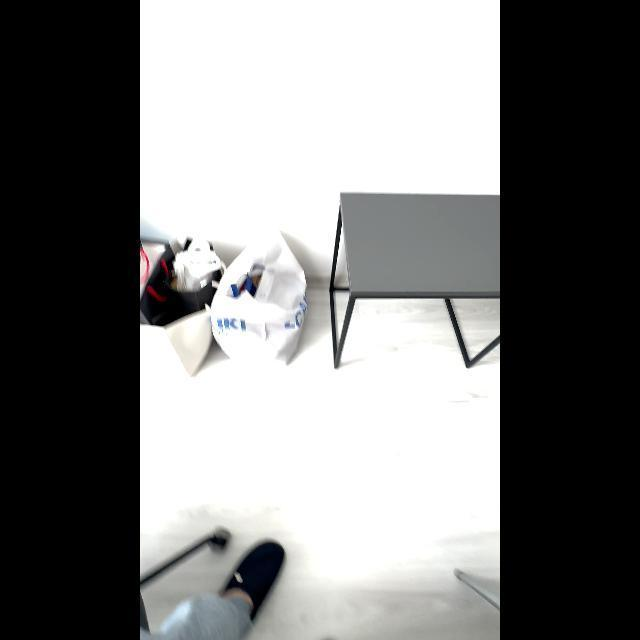coffee table: (320, 182, 500, 378)
